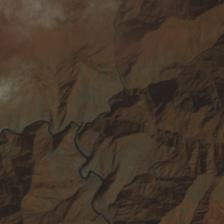landslides: (51, 5, 68, 12)
